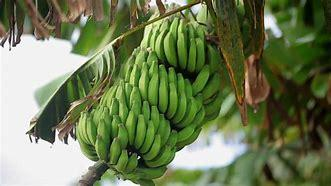banana: (53, 8, 239, 184), (77, 89, 195, 173), (144, 18, 230, 109), (126, 58, 213, 119)
